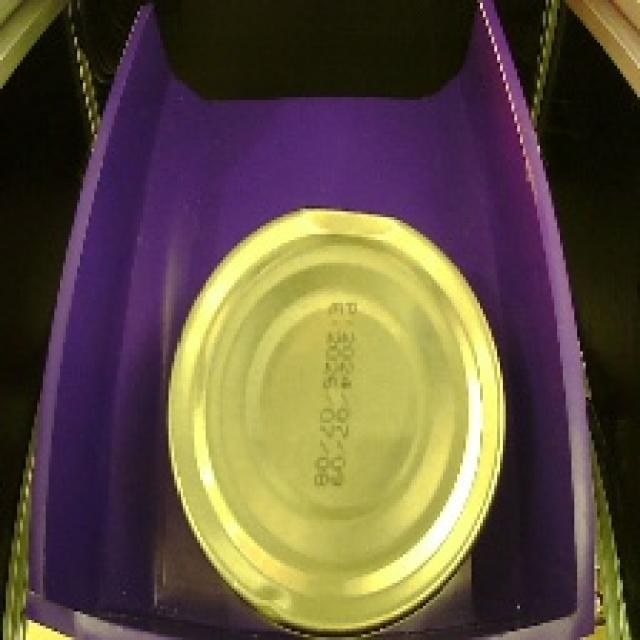metal: (145, 191, 526, 640)
